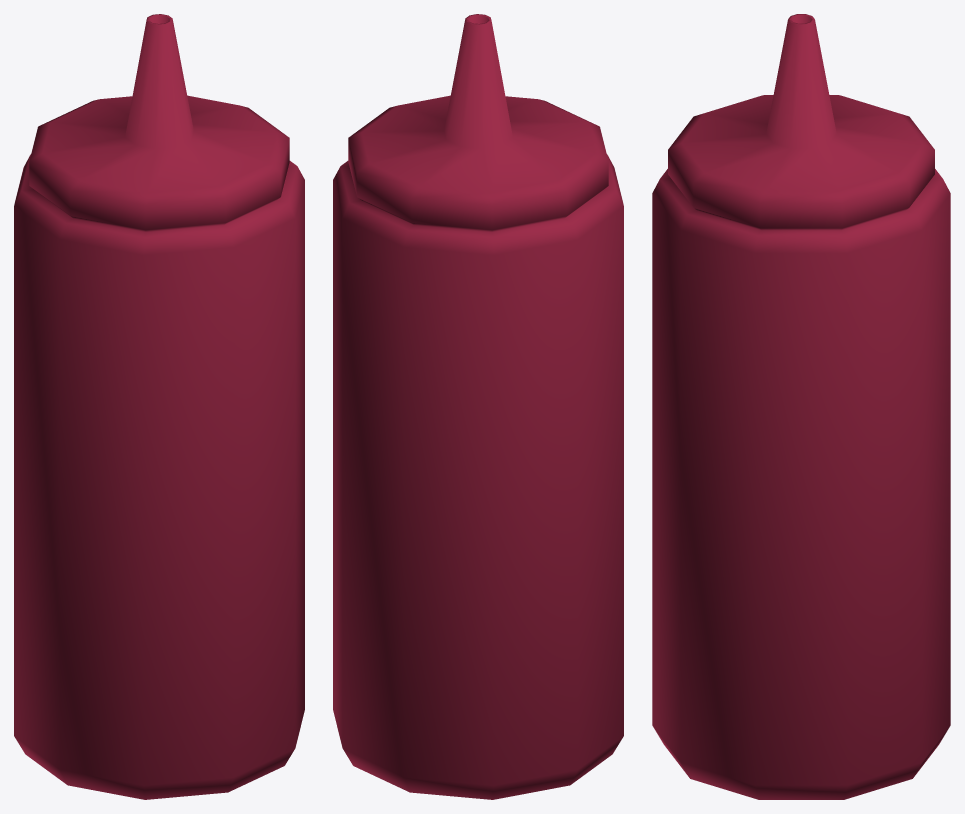
Rendered from Cherry Bottle.fbx.
The picture shows the model from 3 angles, left to right: view 1: azimuth 30°, elevation 25°; view 2: azimuth 150°, elevation 25°; view 3: azimuth 270°, elevation 25°; orthographic projection.
Parts seen in each view (by area): view 1: Cherry Sauce; view 2: Cherry Sauce; view 3: Cherry Sauce.
Part boxes in pixels (x1,y1,x2,y2): Cherry Sauce: [14, 14, 304, 799]; Cherry Sauce: [333, 14, 623, 799]; Cherry Sauce: [652, 14, 950, 799].
Bounding box in the file's own units: 12.98 × 36.6 × 13.65.
